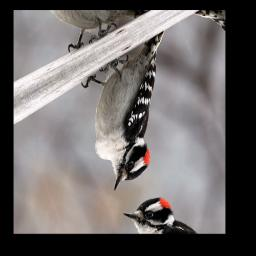Woodpecker: (69, 30, 205, 193)
